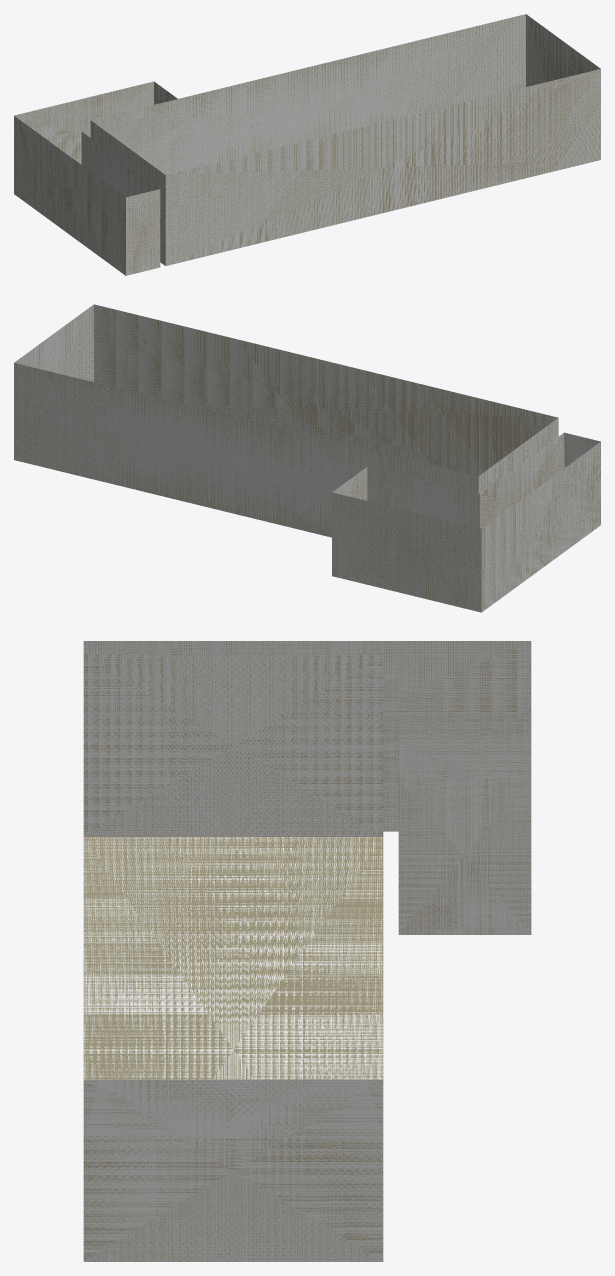
File: pool_WALLS.obj
3 renders of one model, top to bottom at view 1: azimuth 30°, elevation 25°; view 2: azimuth 150°, elevation 25°; view 3: azimuth 270°, elevation 25°, orthographic. The views are drawn at different scales.
Visible parts, largest first — view 1: Mesh1 Group1 Model, Mesh2 Group1 Model; view 2: Mesh1 Group1 Model, Mesh2 Group1 Model; view 3: Mesh1 Group1 Model, Mesh2 Group1 Model.
Boxes of the visible parts, x1=… form: Mesh1 Group1 Model: x1=90, y1=14, x2=600, y2=265; Mesh2 Group1 Model: x1=14, y1=81, x2=177, y2=275; Mesh1 Group1 Model: x1=14, y1=304, x2=558, y2=537; Mesh2 Group1 Model: x1=332, y1=432, x2=600, y2=612; Mesh1 Group1 Model: x1=83, y1=654, x2=383, y2=1261; Mesh2 Group1 Model: x1=83, y1=641, x2=531, y2=934.
Size of the model in its own units: 21.82 by 4 by 8.9.
